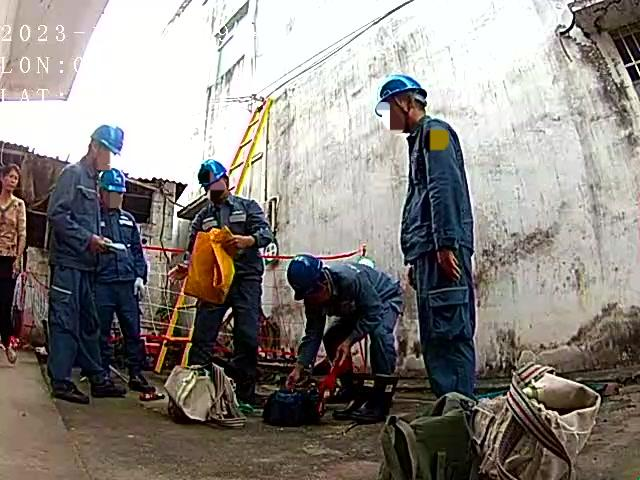halt: (376, 77, 431, 136), (289, 258, 336, 305), (87, 126, 127, 168), (200, 161, 234, 203), (101, 169, 131, 211)
inear: (396, 96, 420, 123)
